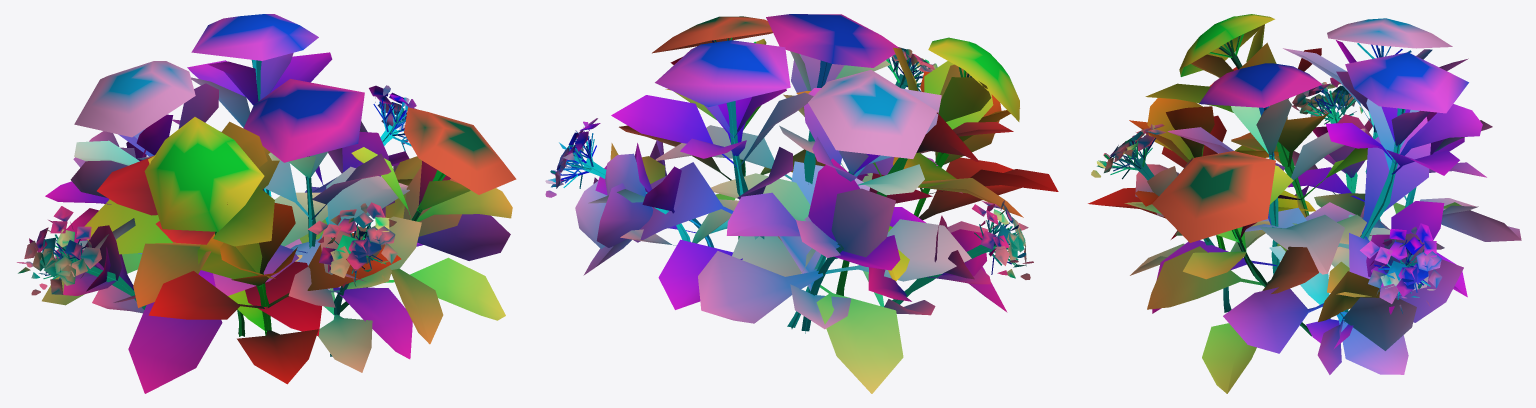
Rendered from Bigleaf_Hydrangea_vgztealha_Mid_vgztealha_VarH_LOD2.fbx.
The picture shows the model from 3 angles, left to right: view 1: azimuth 30°, elevation 25°; view 2: azimuth 150°, elevation 25°; view 3: azimuth 270°, elevation 25°; orthographic projection. The views are drawn at different scales.
Parts seen in each view (by area): view 1: _ao73_VarH_LOD4; view 2: _ao73_VarH_LOD4; view 3: _ao73_VarH_LOD4.
Boxes of the visible parts, bbox=[...] form: _ao73_VarH_LOD4: bbox=[17, 14, 516, 393]; _ao73_VarH_LOD4: bbox=[545, 14, 1058, 393]; _ao73_VarH_LOD4: bbox=[1088, 14, 1521, 393].
Bounding box in the file's own units: 54.01 × 33.05 × 48.1.
